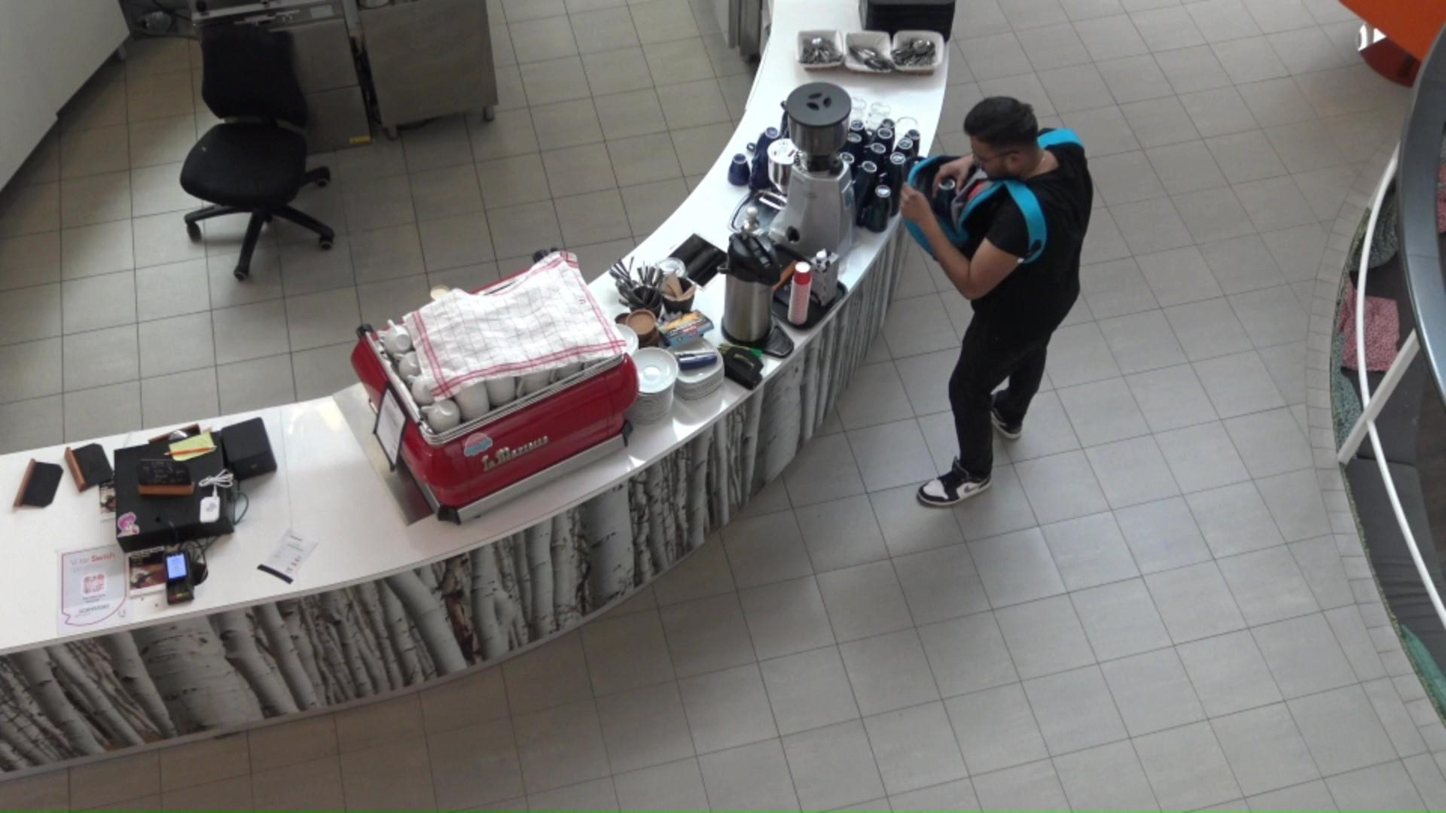shoplifting: (904, 96, 1096, 509)
